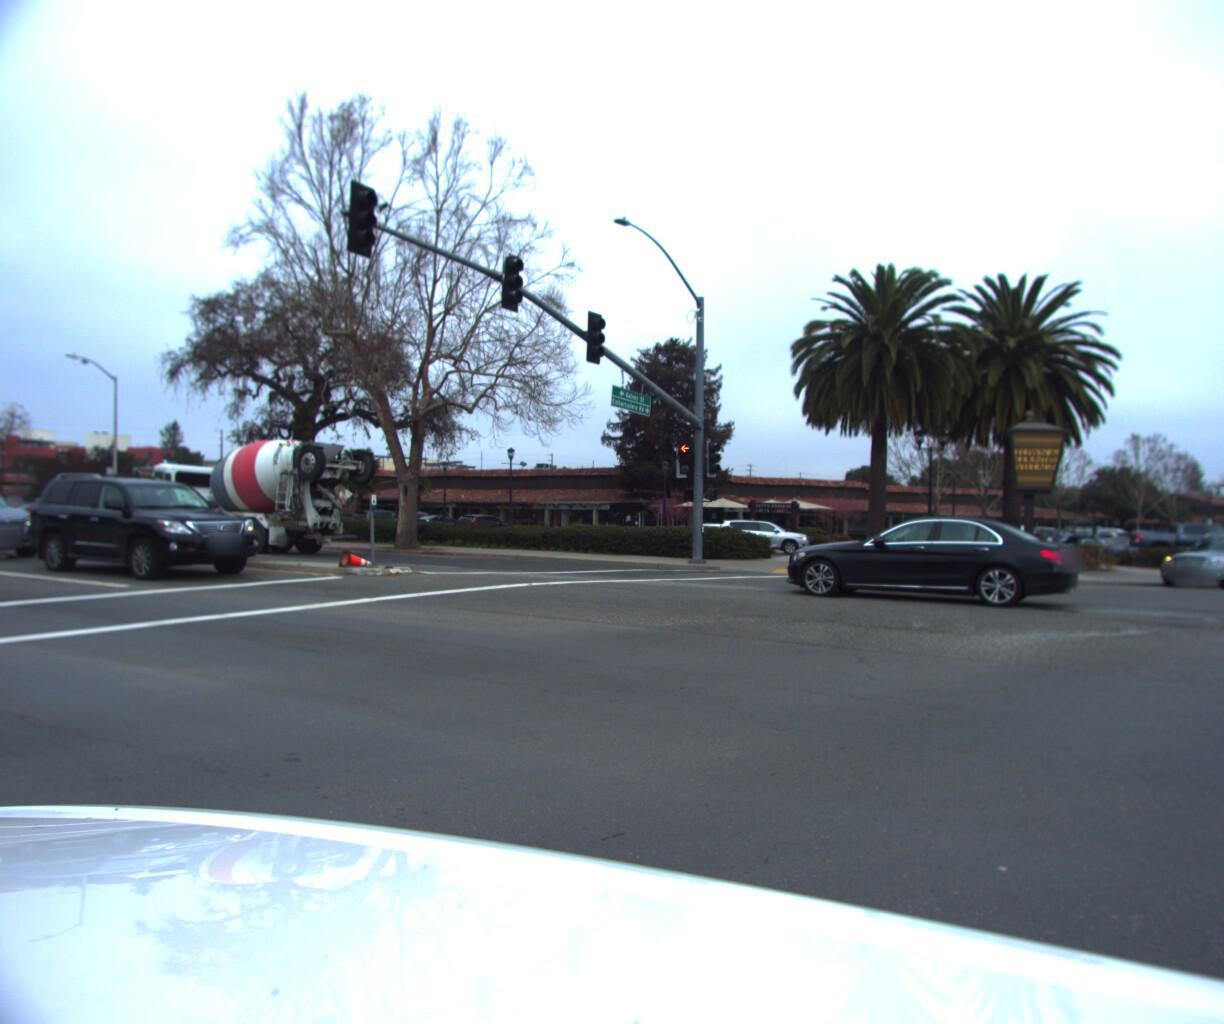car: (778, 516, 1087, 614), (17, 474, 269, 586), (1122, 517, 1224, 559), (1147, 532, 1224, 588), (0, 482, 48, 562)
other_vehicle: (97, 432, 393, 563)
